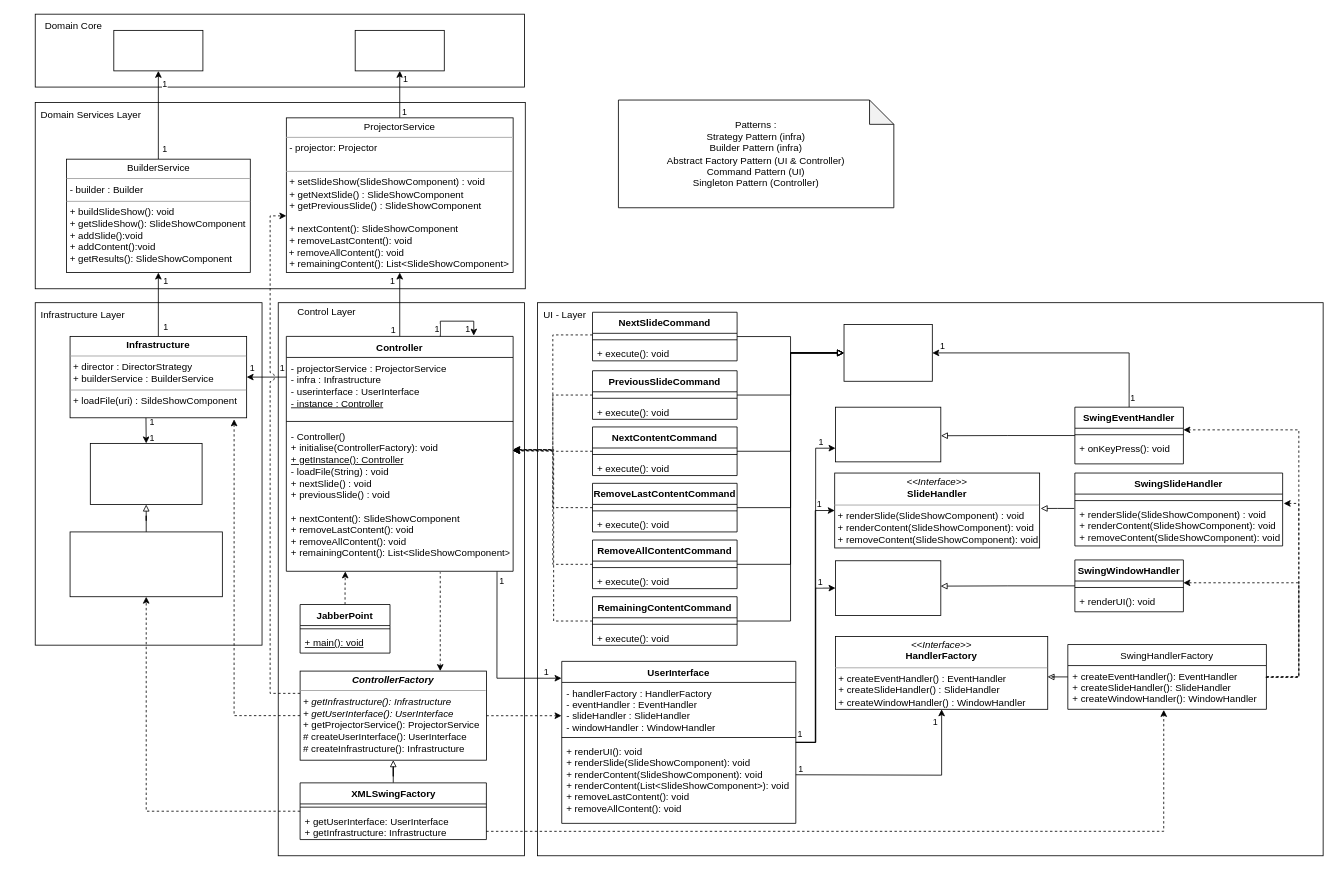
Image size: 1337x870. Some labels were removed from this diagram. Here are the shapes that lost their labels. From the top down, the centre of each, then its label:
At point 158,50: "<<Interface>> Builder".
At point 399,50: "Projector".
At point 887,352: "<<Interface>> Command + execute: void".
At point 888,434: "<<Interface>> EventHandler + onKeyPress() : void".
At point 146,474: "<<Interface>> DirectorStrategy + construct(String): void".
At point 145,564: "XMLDirector + builderService : BuilderService + construct(String): void".
At point 888,587: "<<Interface>> WindowHandler + renderUI() : void".
